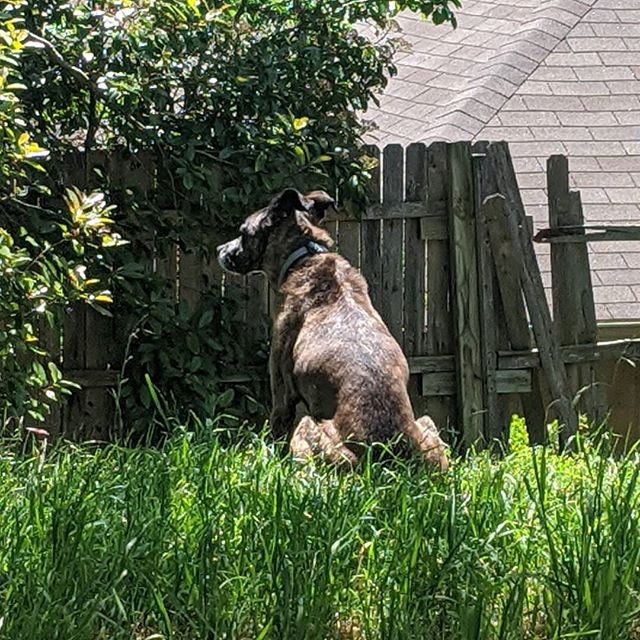animal: (207, 203, 457, 475)
grass: (21, 458, 640, 640)
vegetation: (1, 8, 403, 470)
